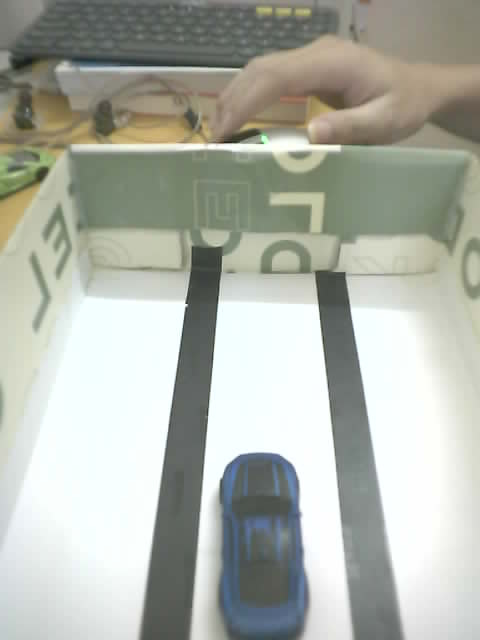vehicle: (211, 452, 311, 630)
